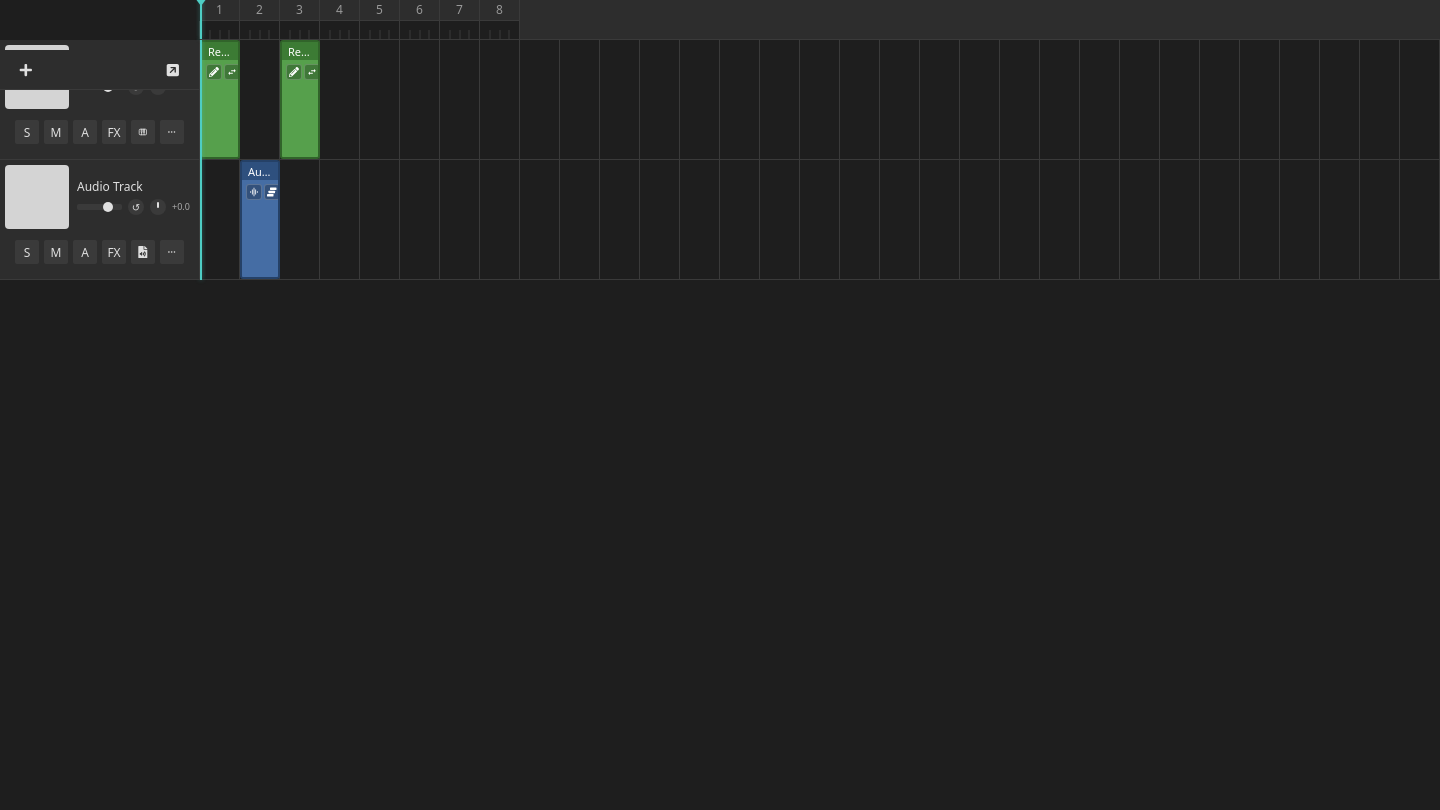
Scenario: MainContent › opens the track creation modal with MIDI selected by default
Click the button named "Create track": click(26, 70) [12, 56, 40, 84]
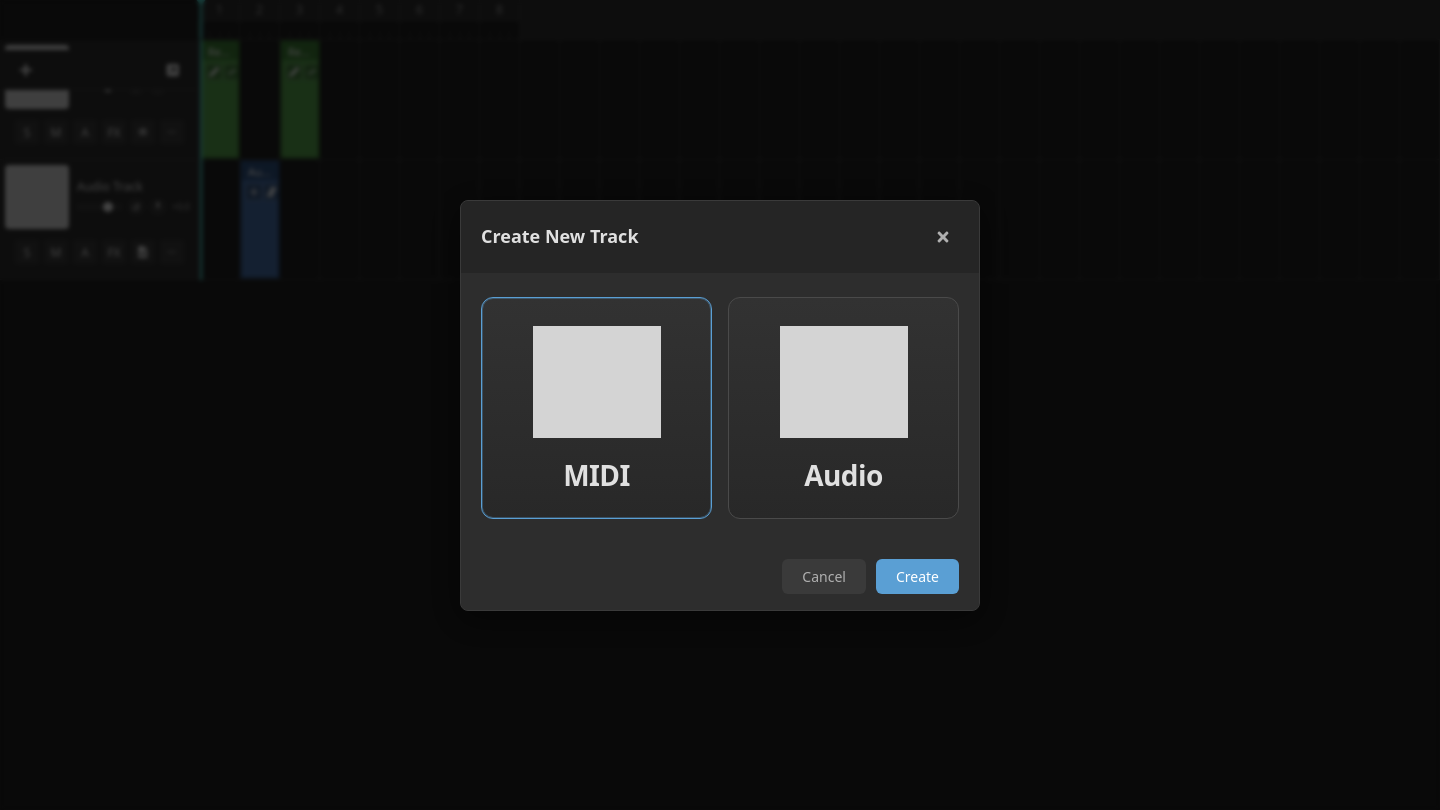
Check: the dialog "Create New Track" is shown, box [460, 200, 980, 610]
Check: the button "Cancel" is shown, box [782, 558, 866, 594]
Check: the button "Create" is shown, box [876, 558, 959, 594]
